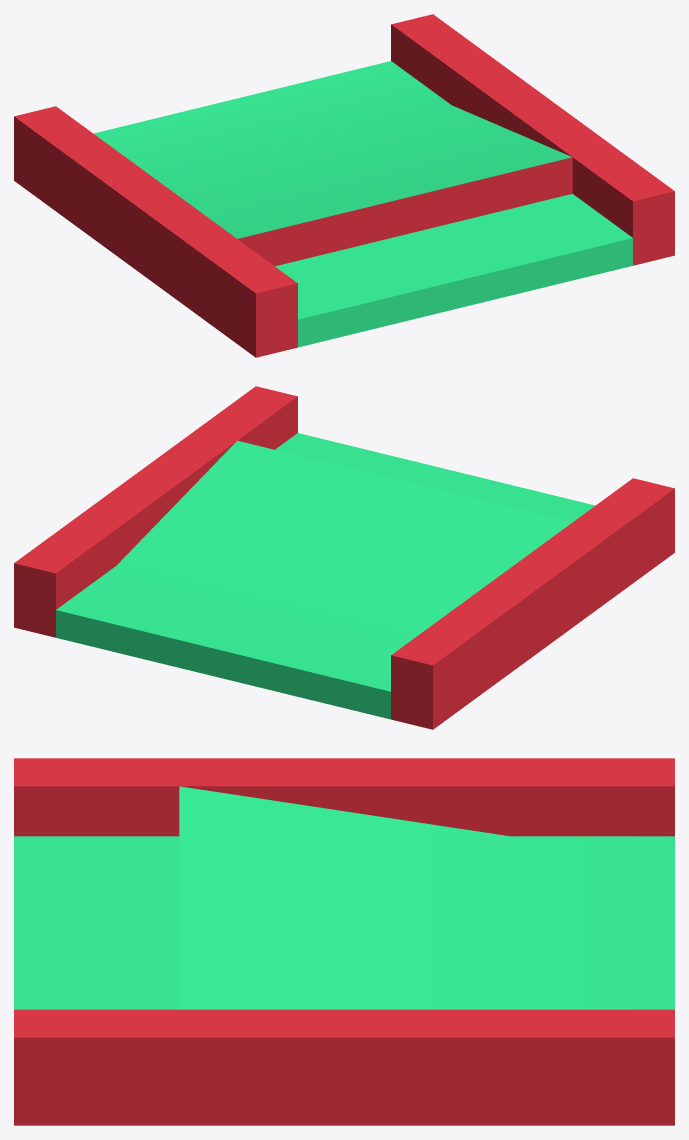
Rendered from rampSharp.fbx.
The picture shows the model from 3 angles, top to bottom: view 1: azimuth 30°, elevation 25°; view 2: azimuth 150°, elevation 25°; view 3: azimuth 270°, elevation 25°; orthographic projection. The views are drawn at different scales.
Visible parts, largest first — view 1: rampSharp; view 2: rampSharp; view 3: rampSharp.
Part boxes in pixels (<box>): rampSharp: <box>14,14,674,357</box>; rampSharp: <box>14,386,674,729</box>; rampSharp: <box>14,758,674,1125</box>.
Size of the model in its own units: 10 by 1.47 by 10.
